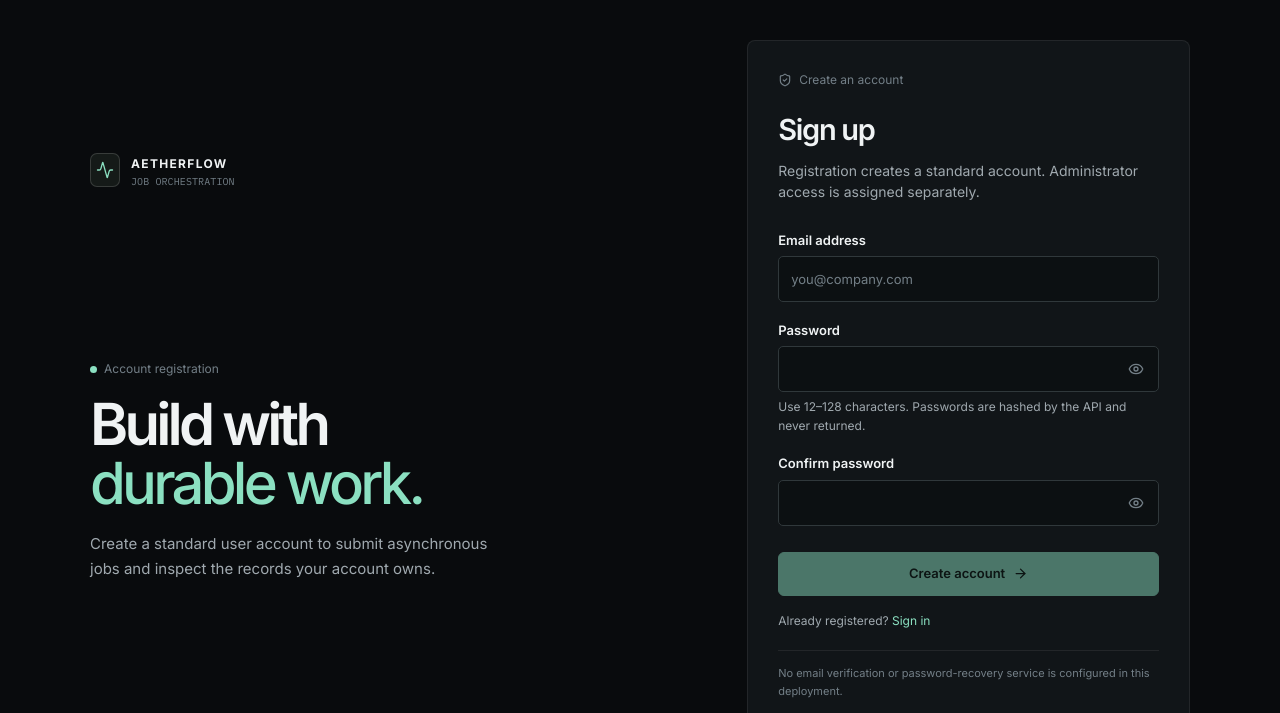
Test: registration page › rejects mismatched passwords without sending the request
Type "new-user@example.com" into the field labelled "Email address" at {"x": 969, "y": 279}, box [778,256,1159,302]
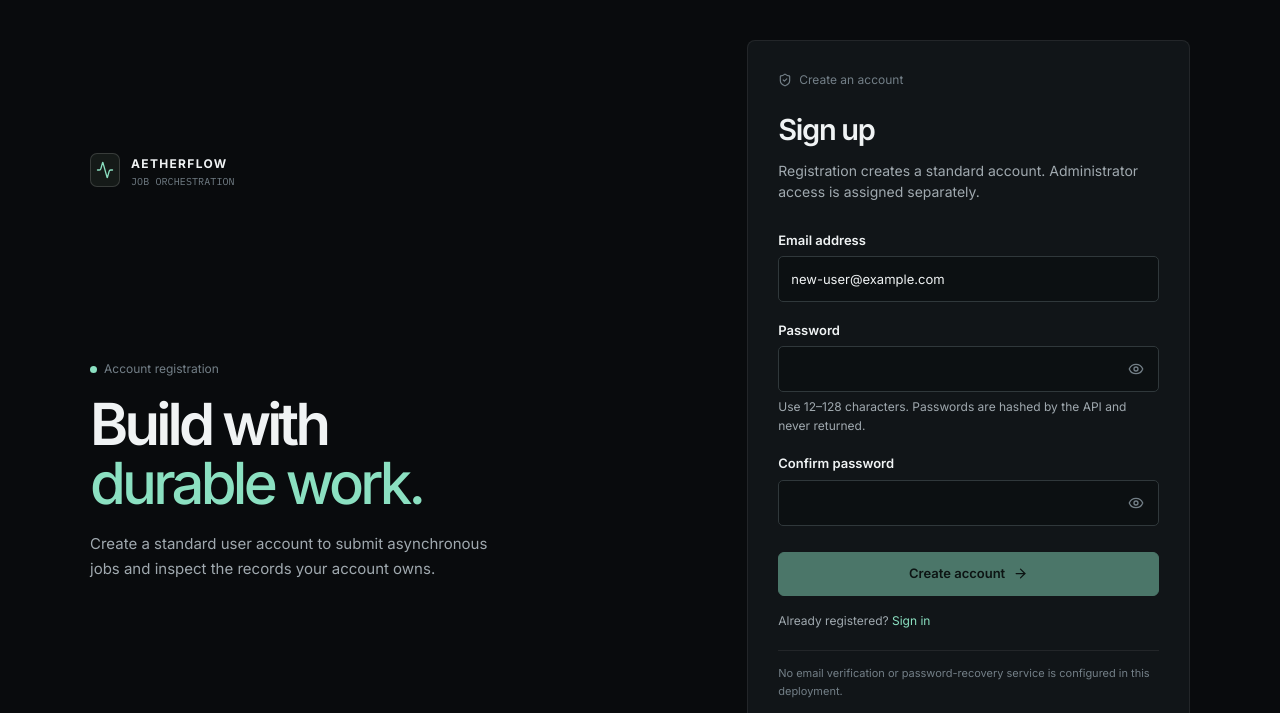
Type "a long registration password" into the password field labelled "Password" at {"x": 969, "y": 369}, box [778,346,1159,392]
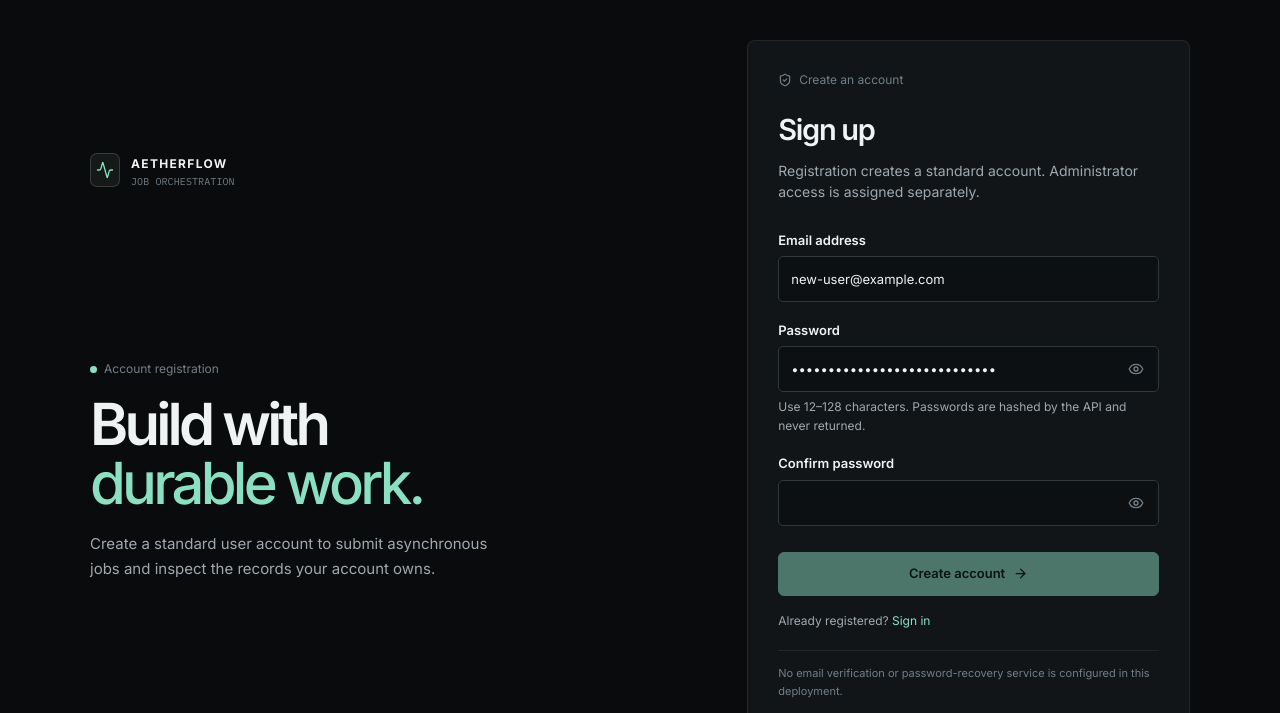
Type "a different password" into the password field labelled "Confirm password" at {"x": 969, "y": 502}, box [778,480,1159,526]
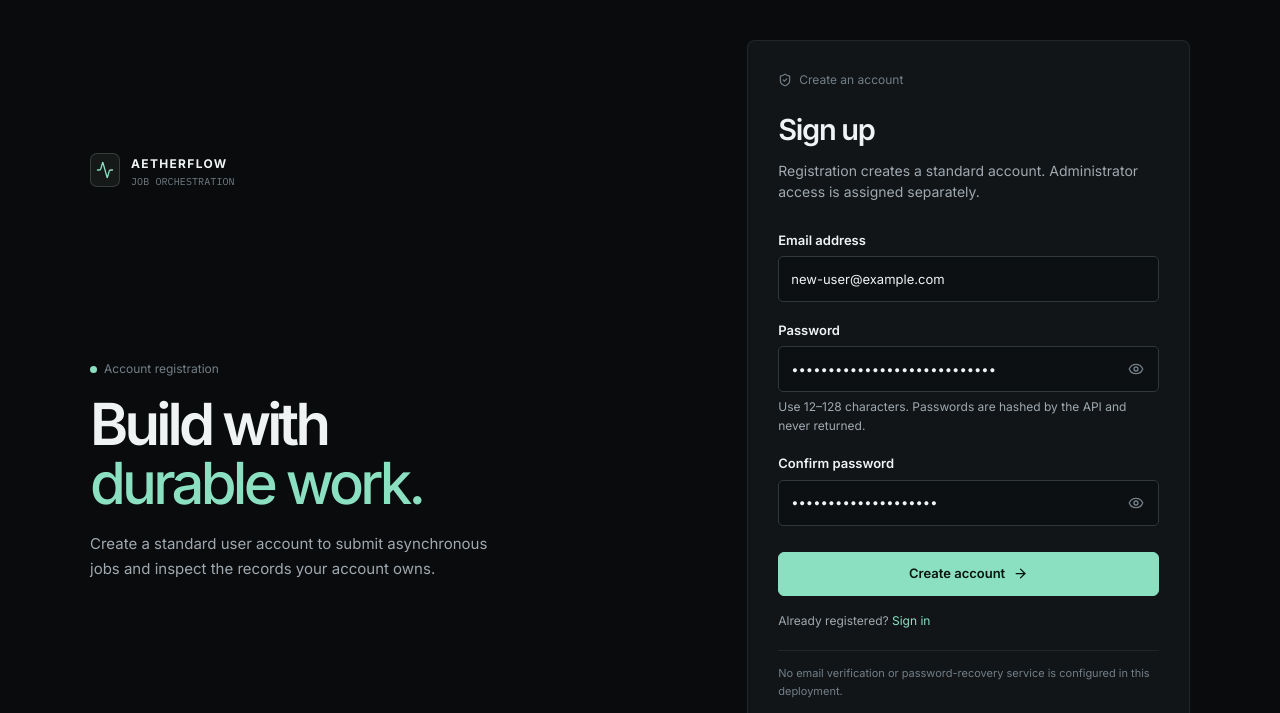
Click the button "Create account" at {"x": 969, "y": 574}, box [778,552,1159,596]
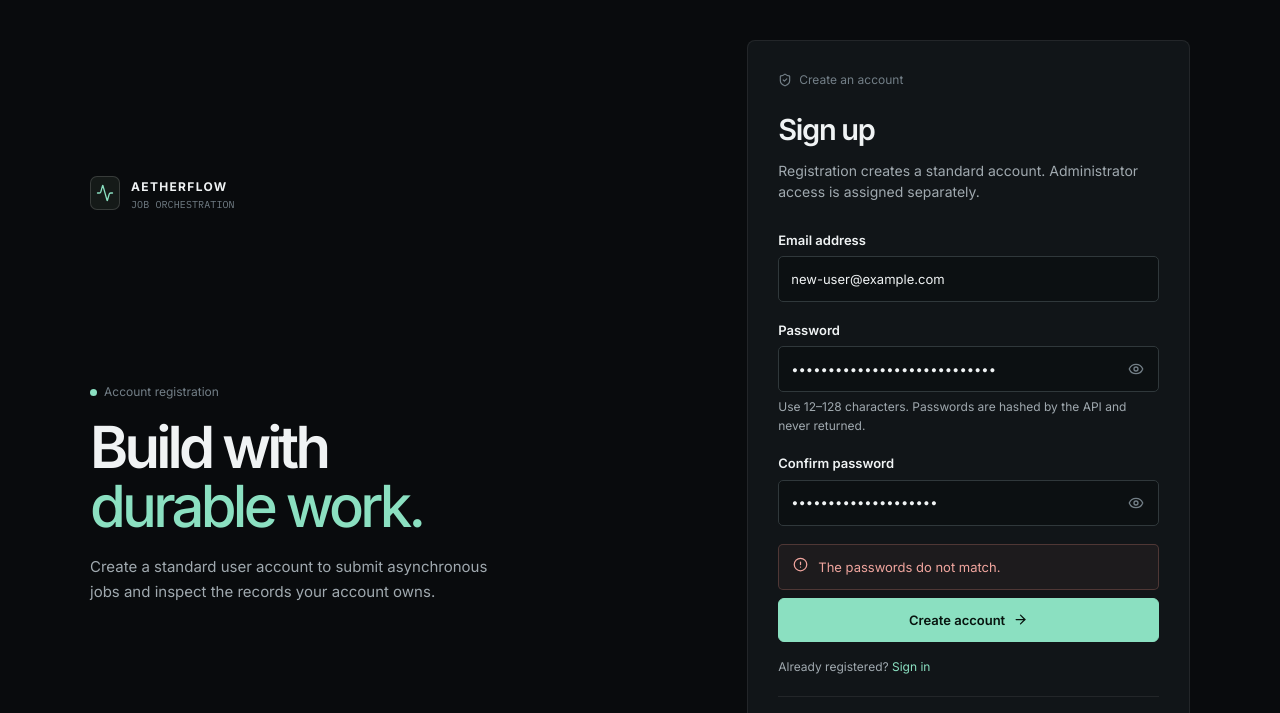
Expected: the message reads "The passwords do not match.", [818,558,1000,574]
